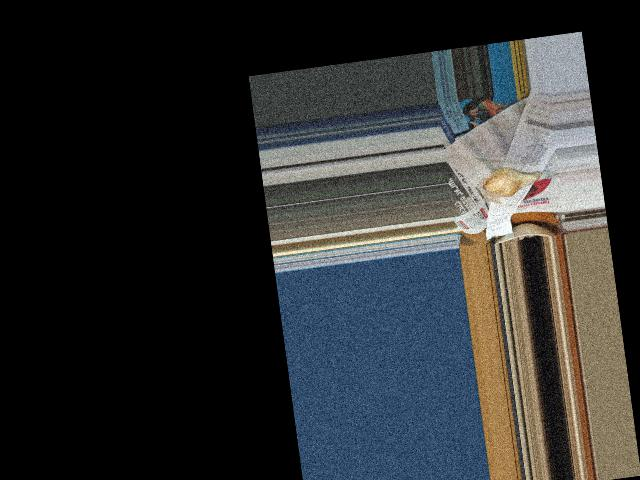onion: (480, 163, 538, 200)
